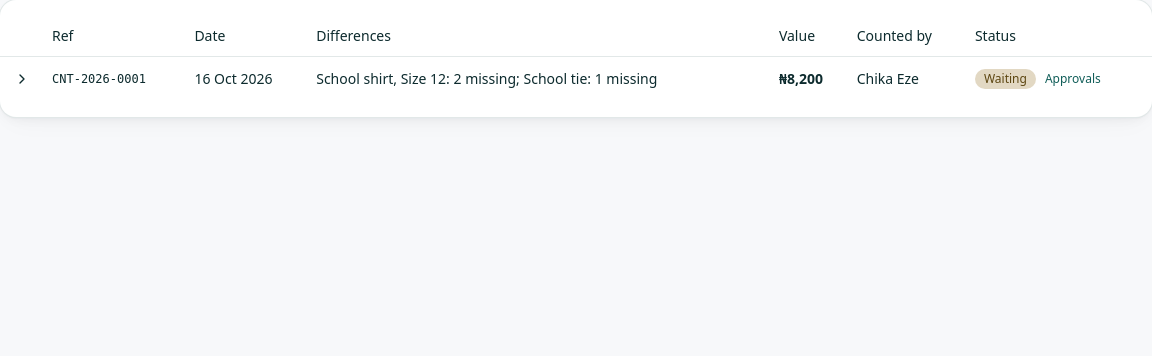
Test: StockCountsTable › expands to the counted items with signed differences and the value at cost
The image size is (1152, 356).
expect the text "3 items counted" is not shown: met
Click the button named "Show counted items" at (22, 78), box [8,64,36,92]
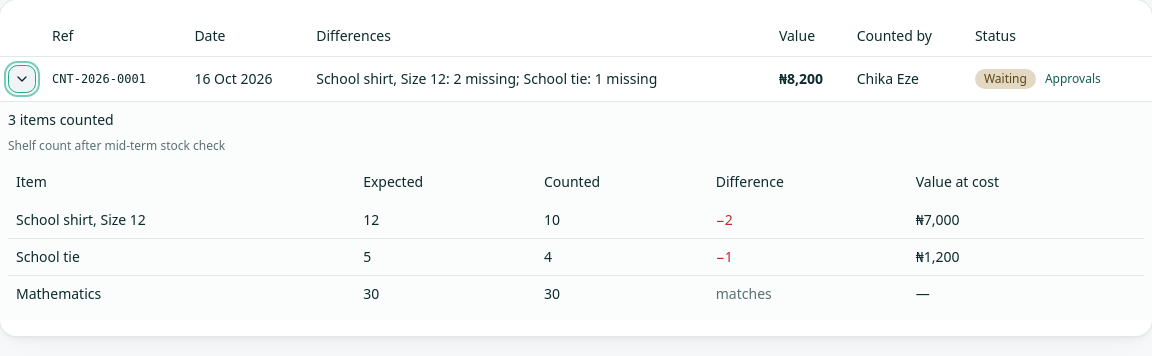
expect the text "3 items counted" is shown: met, box [8,110,114,128]
expect the text "Shelf count after mid-term stock check" is shown: met, box [8,136,225,154]
expect the column heading "Item" is shown: met, box [8,162,355,202]
